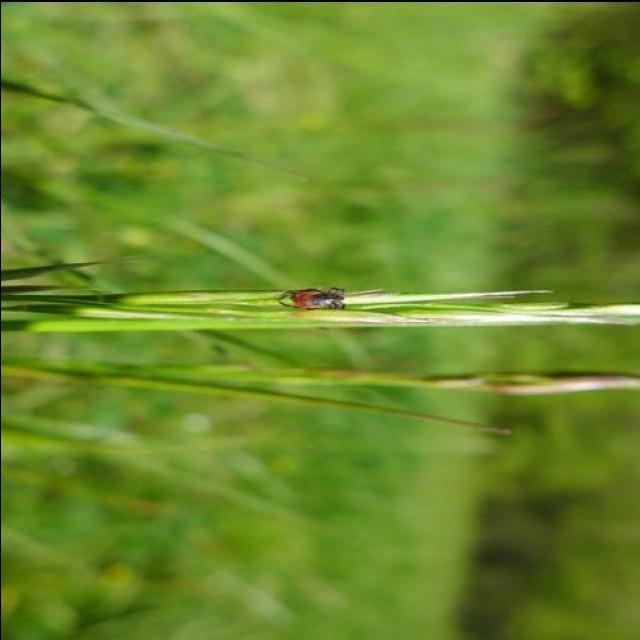Ixodes Ricinus-F: (270, 284, 347, 312)
